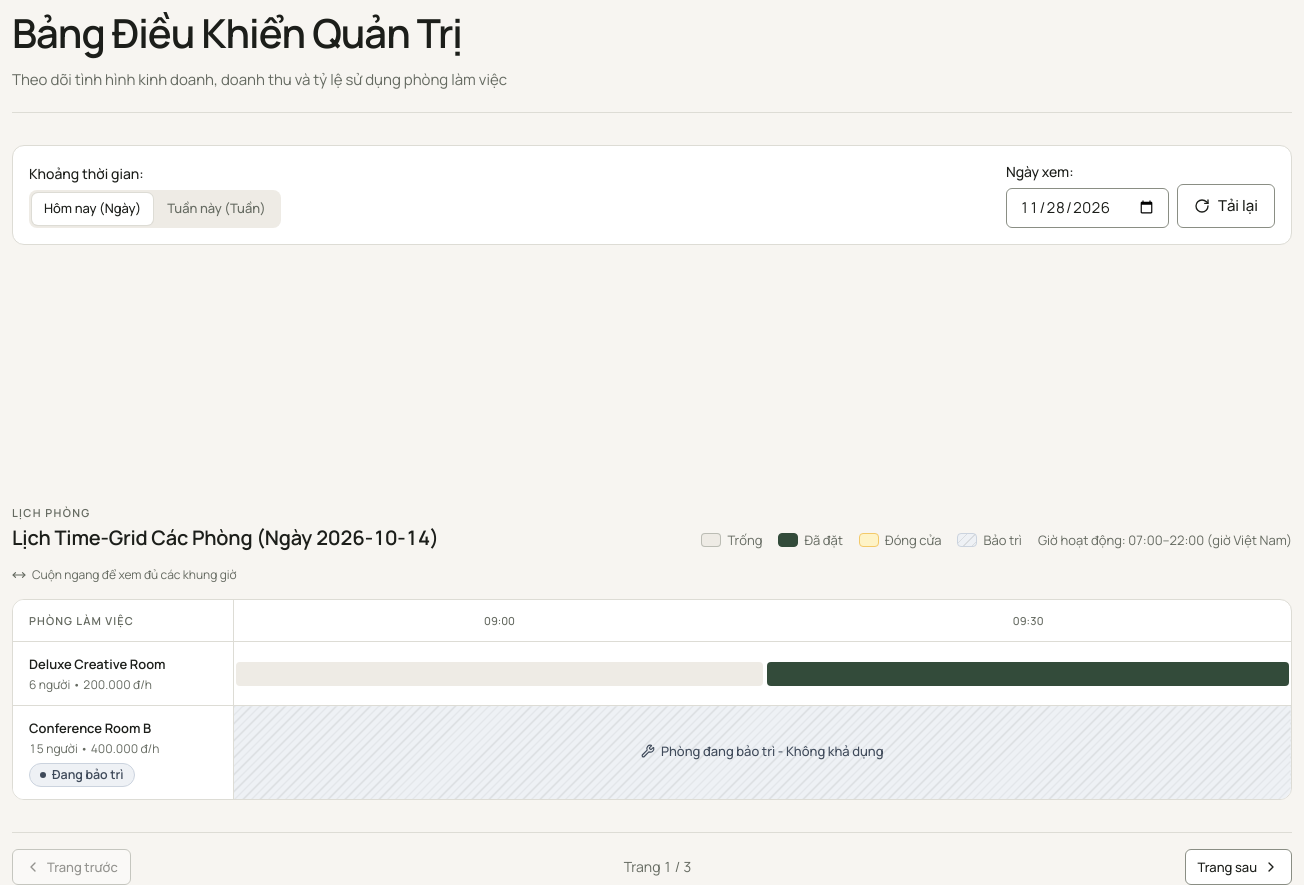
AdminDashboardPage Independent Loading & Error Isolation (CWB-123) › preserves roomSummary and retries the same page when a subsequent schedule page fails
The width and height of the screenshot is (1304, 885).
Step 1. Click the button "Trang sau" → point(1238, 867), box [1185, 849, 1292, 884]
(page scrolled)
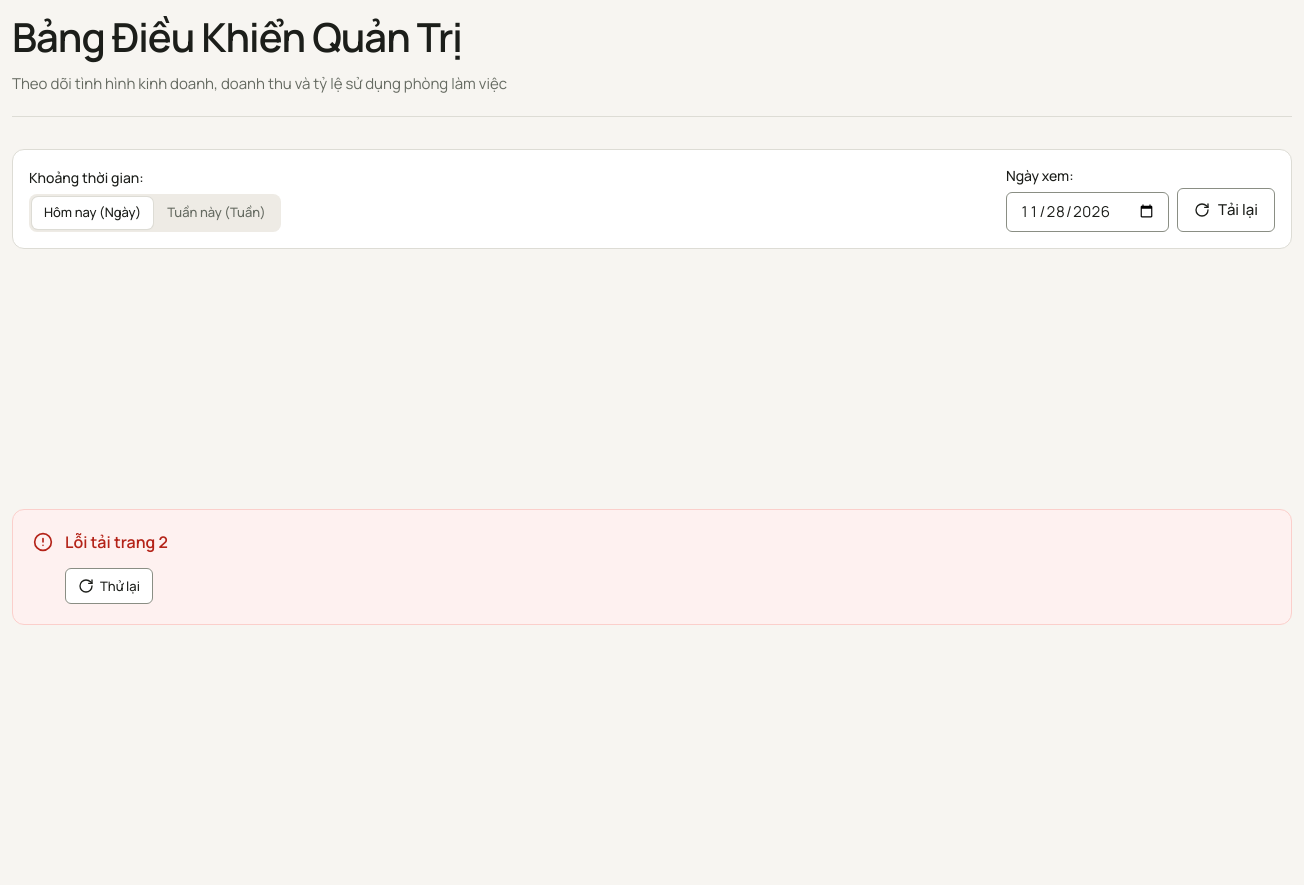
expect the message "Lỗi tải trang 2 Thử lại" is shown: met, box [12, 509, 1292, 625]
expect the text "Lỗi tải trang 2" is shown: met, box [65, 531, 168, 553]
expect the navigation bar with test id "schedule-pagination" is gone: met
Step 2. Click the button with test id "dashboard-schedule-retry-btn" → point(109, 586), box [65, 568, 153, 604]
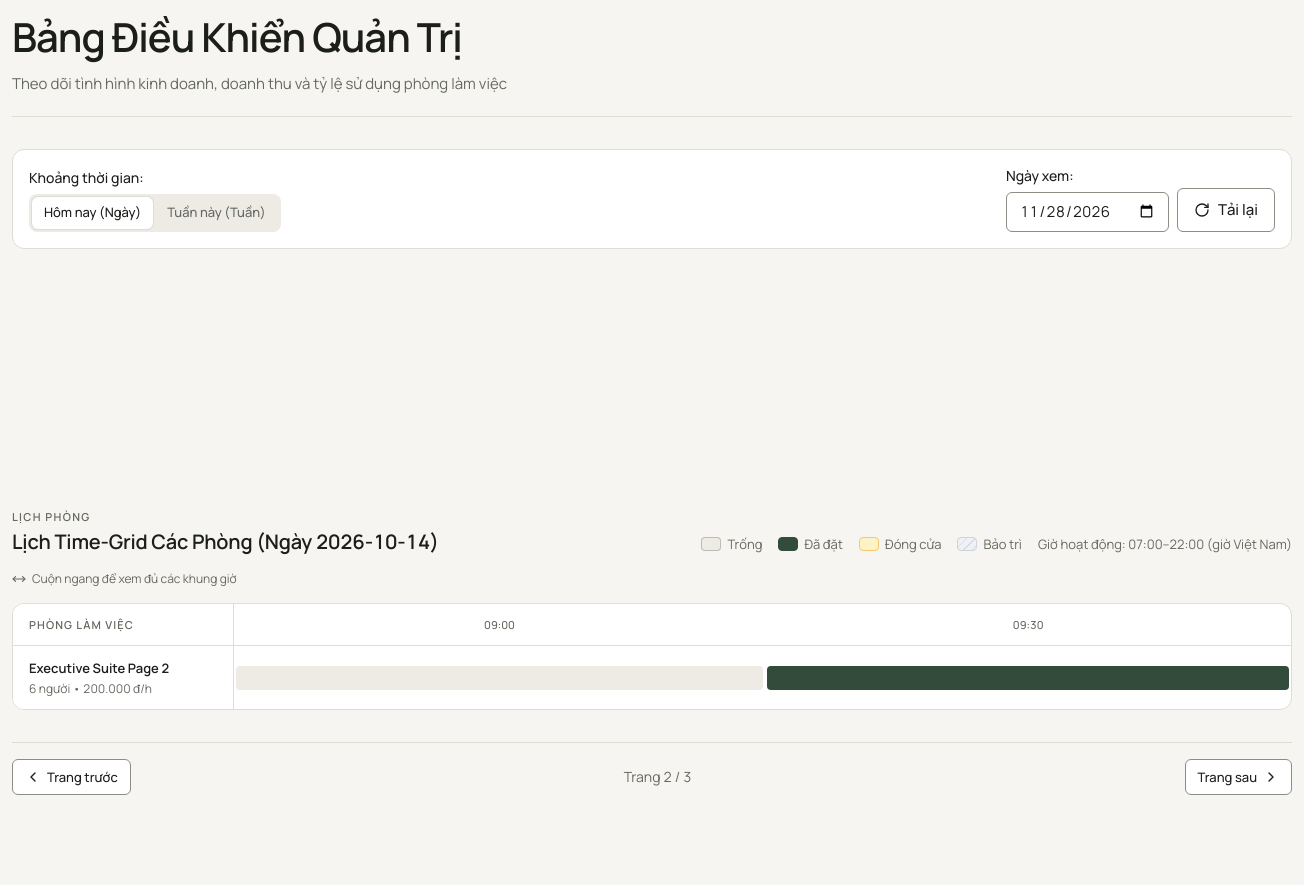
expect the text "Executive Suite Page 2" is shown: met, box [29, 659, 169, 677]
